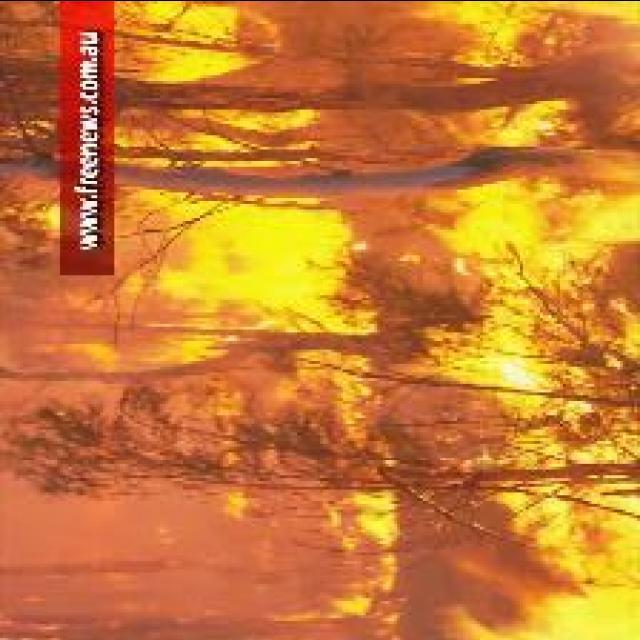Fire: (412, 173, 640, 461), (132, 188, 378, 322), (443, 494, 640, 637), (267, 486, 398, 640), (405, 0, 640, 63), (115, 104, 318, 172), (137, 0, 257, 77), (441, 87, 568, 153)
